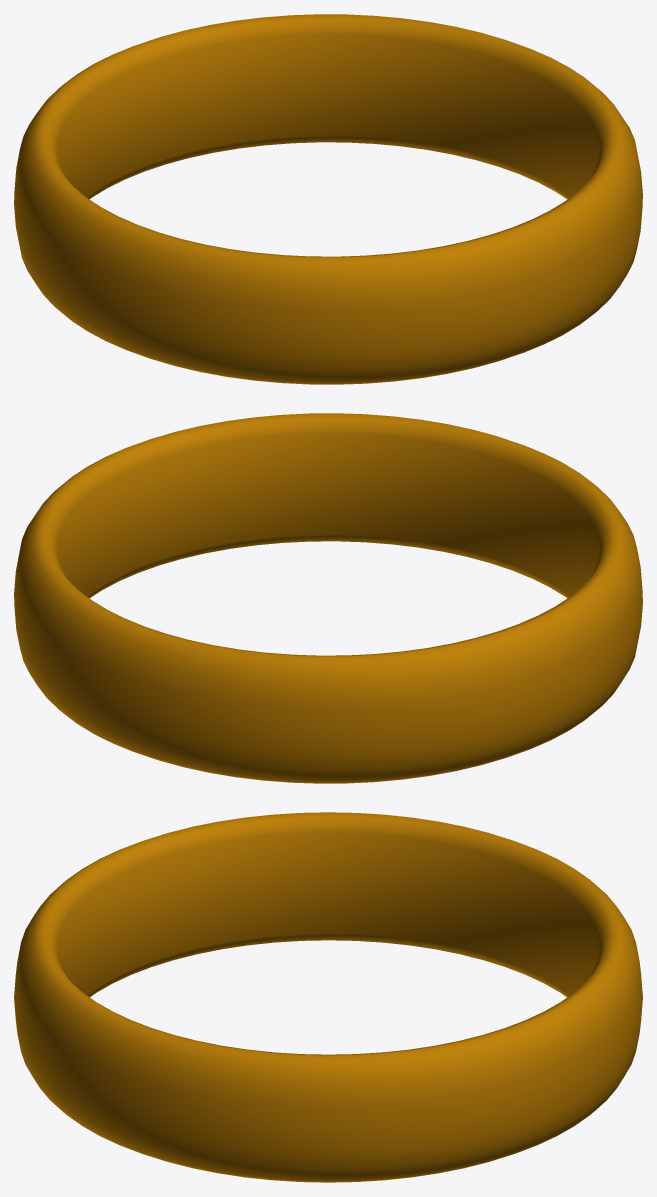
File: onering.fbx
3 views of the same model, one above another, from view 1: azimuth 30°, elevation 25°; view 2: azimuth 150°, elevation 25°; view 3: azimuth 270°, elevation 25° (orthographic).
Visible parts, largest first — view 1: onering; view 2: onering; view 3: onering.
Boxes of the visible parts, left/top/right/bottom form: onering: left=14, top=14, right=642, bottom=384; onering: left=14, top=413, right=642, bottom=783; onering: left=14, top=812, right=642, bottom=1182.
Bounding box in the file's own units: 2 × 0.4449 × 2.
